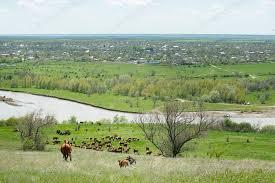cow: (59, 144, 73, 161), (124, 156, 136, 164), (118, 161, 130, 168)
